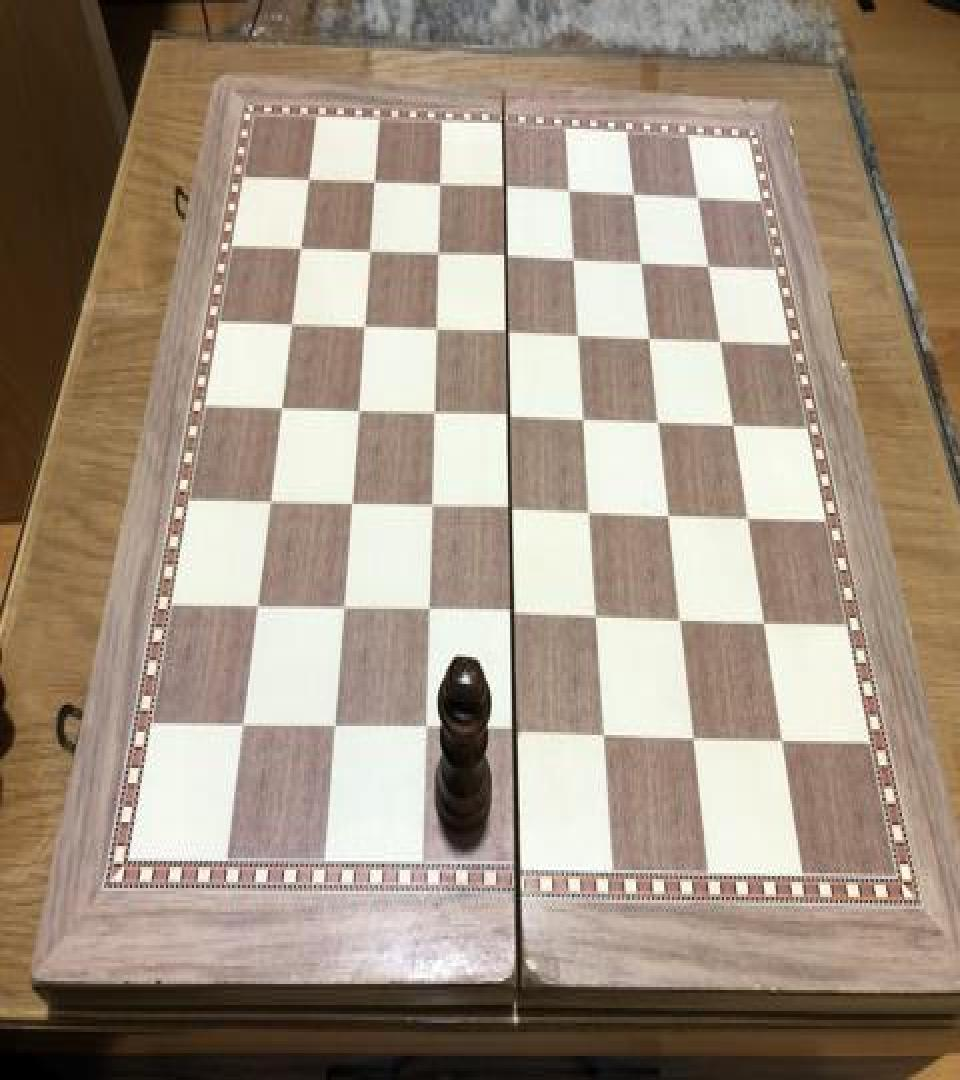xcorner: (670, 601, 694, 638), (500, 595, 524, 632), (244, 586, 268, 623), (411, 712, 435, 749), (688, 176, 712, 212), (558, 170, 582, 206), (493, 168, 517, 204), (428, 165, 452, 201), (363, 162, 387, 198), (297, 159, 321, 195), (698, 244, 722, 280), (631, 242, 655, 278), (563, 238, 587, 274), (494, 236, 518, 272), (426, 234, 450, 270), (357, 231, 381, 267), (289, 228, 313, 264), (710, 321, 734, 357), (639, 318, 663, 354), (567, 315, 591, 351), (496, 312, 520, 348), (424, 309, 448, 345), (351, 306, 375, 342), (279, 303, 303, 339), (723, 405, 747, 441), (648, 402, 672, 438), (573, 399, 597, 435), (497, 396, 521, 432), (421, 393, 445, 429), (345, 390, 369, 426), (269, 387, 293, 423), (738, 498, 762, 534), (658, 495, 682, 531), (578, 494, 602, 530), (498, 490, 522, 526), (418, 488, 442, 524), (338, 484, 362, 520), (257, 482, 281, 518), (754, 604, 778, 640), (585, 598, 609, 634), (415, 592, 439, 628), (329, 590, 353, 626), (772, 723, 796, 759), (683, 720, 707, 756), (593, 717, 617, 753), (502, 716, 526, 752), (320, 710, 344, 746), (229, 706, 253, 742), (623, 173, 647, 208)
